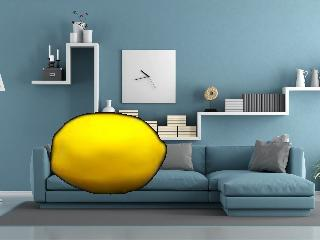lemon: (50, 116, 164, 195)
